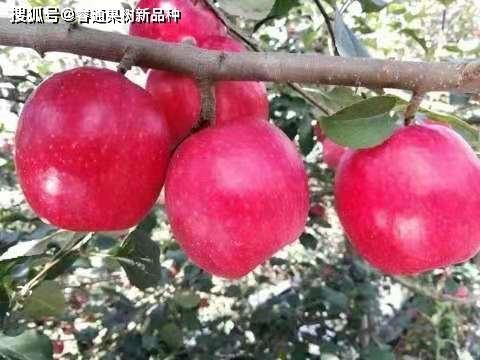apple: (12, 64, 170, 235), (164, 115, 311, 279), (330, 117, 480, 275), (146, 36, 270, 145)
